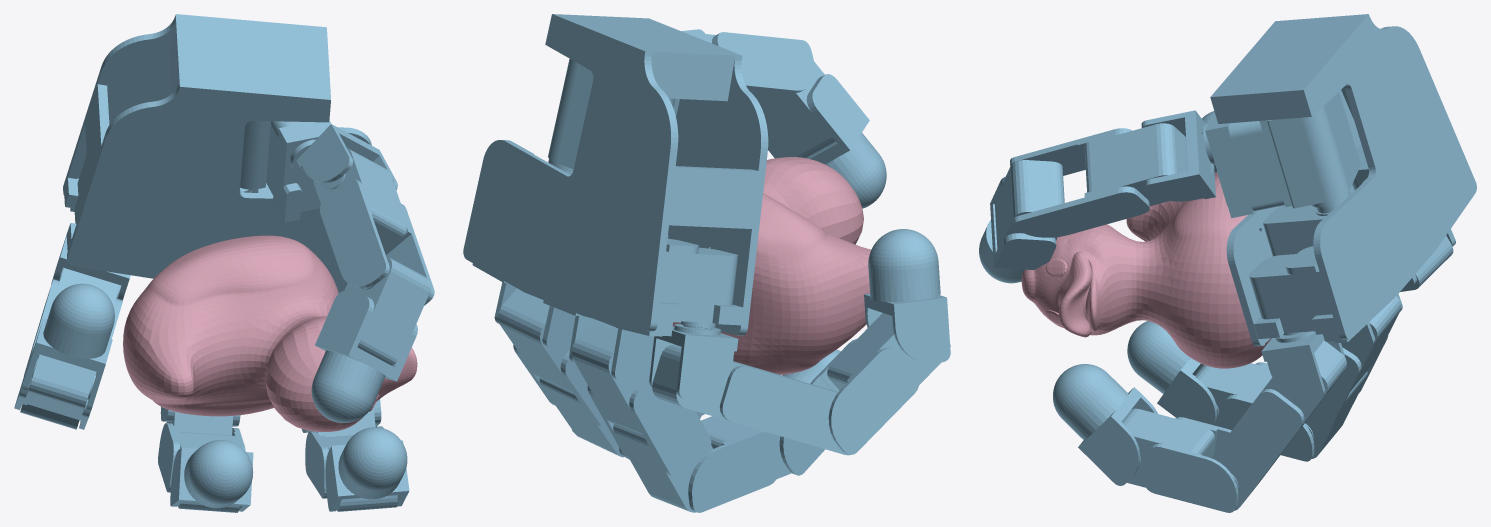
3 views of the same model, side by side, from view 1: azimuth 30°, elevation 25°; view 2: azimuth 150°, elevation 25°; view 3: azimuth 270°, elevation 25° (orthographic). The views are drawn at different scales.
Visible parts, largest first — view 1: world, rubber_duck.stl; view 2: world, rubber_duck.stl; view 3: world, rubber_duck.stl.
Part boxes in pixels (x1=…): world: x1=14, y1=14, x2=434, y2=512; rubber_duck.stl: x1=123, y1=235, x2=417, y2=431; world: x1=463, y1=14, x2=950, y2=512; rubber_duck.stl: x1=672, y1=157, x2=870, y2=374; world: x1=979, y1=14, x2=1476, y2=512; rubber_duck.stl: x1=1021, y1=172, x2=1271, y2=368.
Size of the model in its own units: 0.1692 by 0.1786 by 0.1845.
